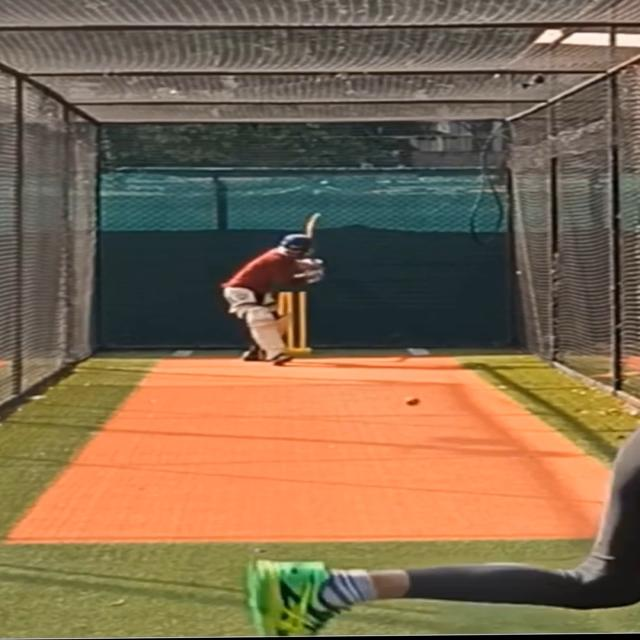ball: (402, 396, 422, 408)
stump: (274, 291, 311, 354)
